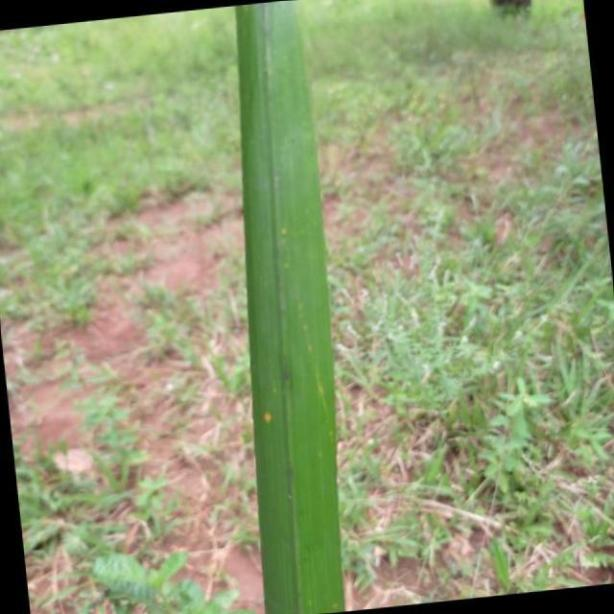Kalium: (237, 0, 347, 614)
